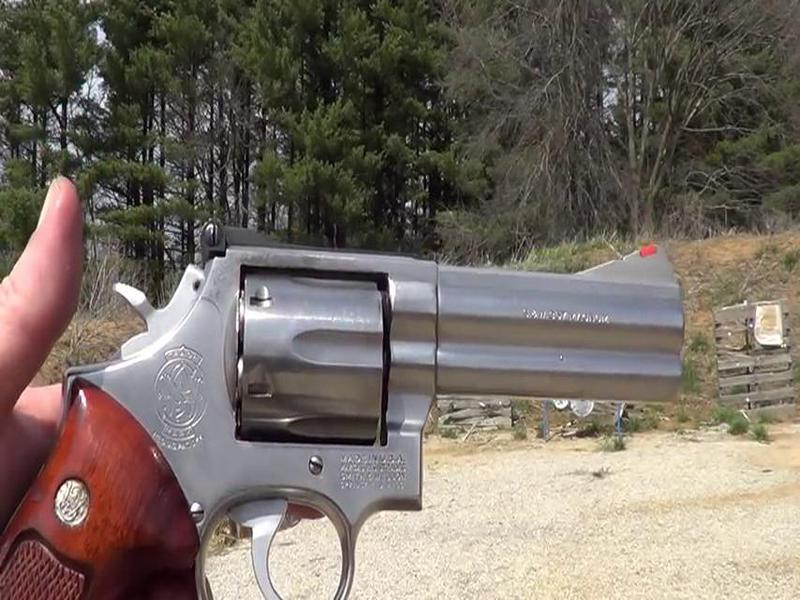Revolver: (77, 202, 699, 581)
